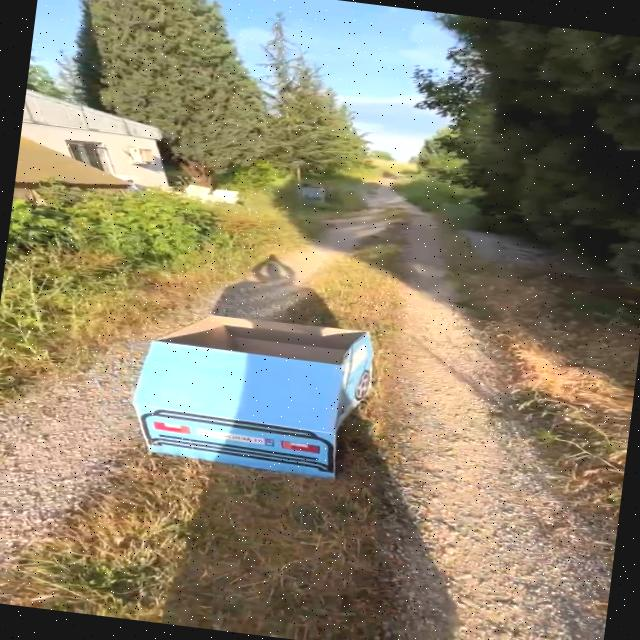blue_car: (90, 273, 442, 505)
